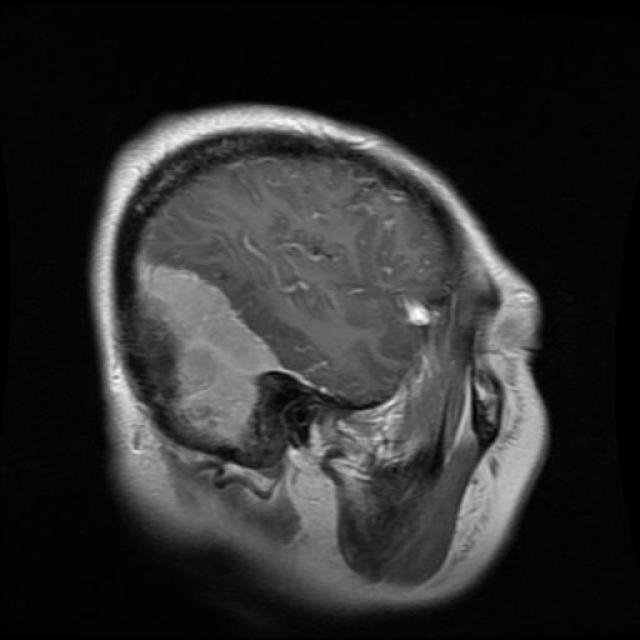meningioma: (125, 266, 292, 430)
